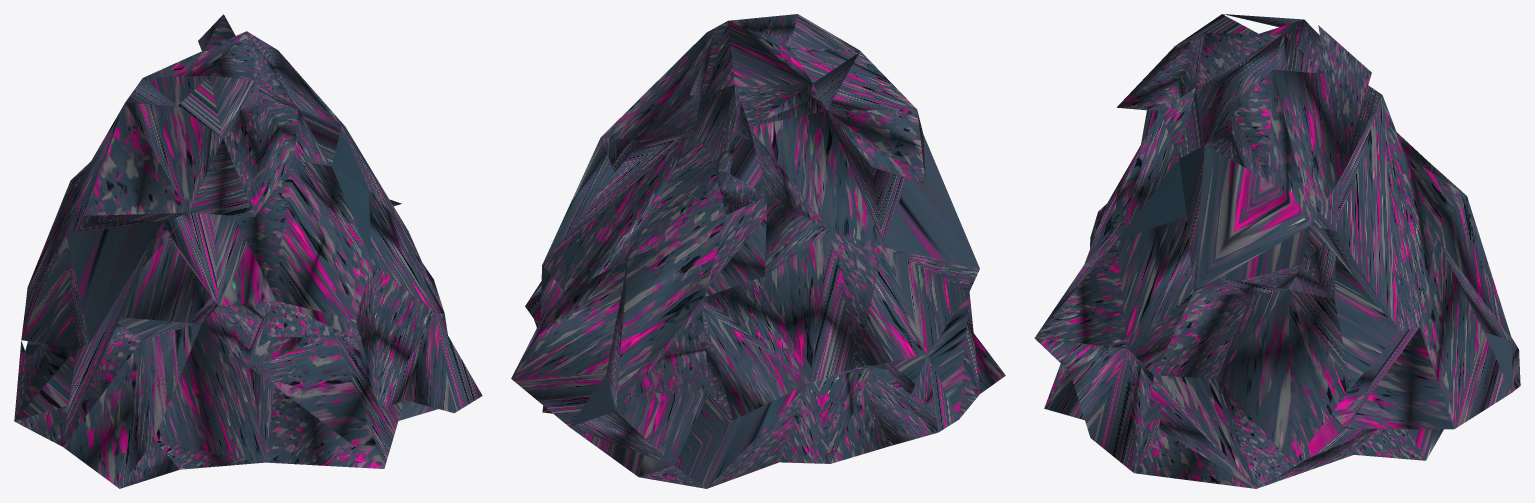
Rendered from cover_half_city_v6_lod1.glb.
3 views of the same model, side by side, from view 1: azimuth 30°, elevation 25°; view 2: azimuth 150°, elevation 25°; view 3: azimuth 270°, elevation 25° (orthographic). The views are drawn at different scales.
Visible parts, largest first — view 1: Mesh_0; view 2: Mesh_0; view 3: Mesh_0.
Boxes of the visible parts, x1,y1,x2,y2 form: Mesh_0: [14, 14, 482, 488]; Mesh_0: [511, 14, 1005, 488]; Mesh_0: [1034, 14, 1520, 488].
Bounding box in the file's own units: 0.96 × 0.8 × 0.9298.
Materials: 1 (1 with a texture image).
